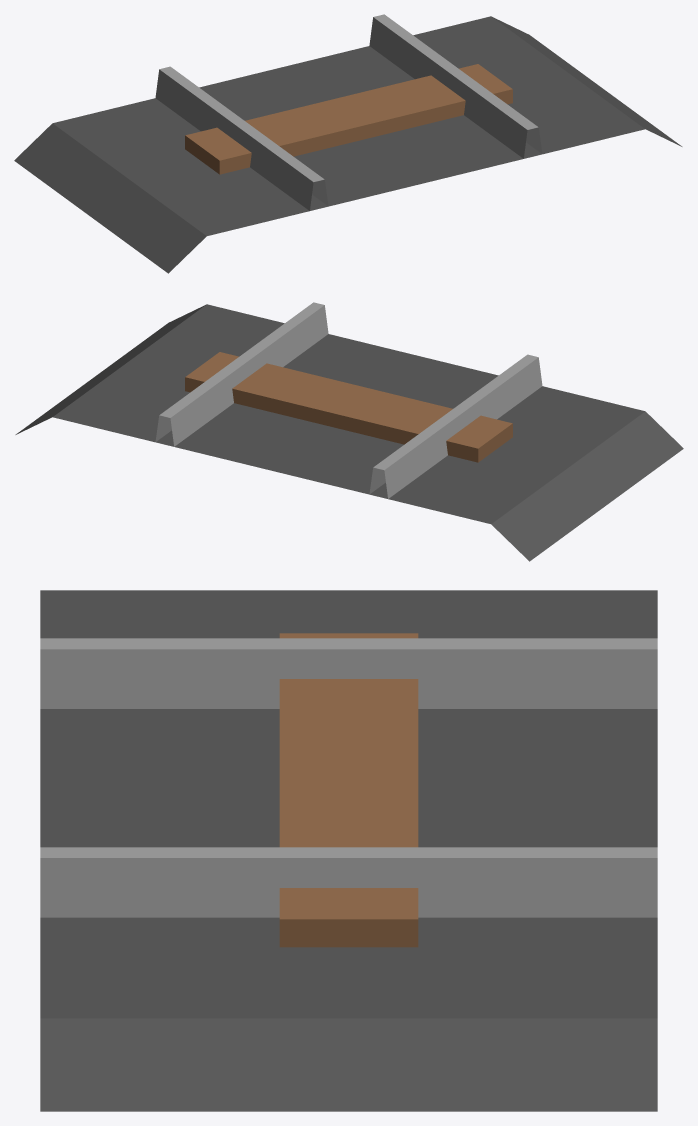
Rendered from 1_straight_micro.fbx.
3 renders of one model, top to bottom at view 1: azimuth 30°, elevation 25°; view 2: azimuth 150°, elevation 25°; view 3: azimuth 270°, elevation 25°, orthographic. The views are drawn at different scales.
Parts seen in each view (by area): view 1: 1_straight_micro; view 2: 1_straight_micro; view 3: 1_straight_micro.
Boxes of the visible parts, box(x1,y1,x2,y2) form: 1_straight_micro: box(14, 14, 682, 273); 1_straight_micro: box(15, 302, 683, 561); 1_straight_micro: box(40, 590, 657, 1111).
Size of the model in its own units: 1.93 by 0.2 by 1.
